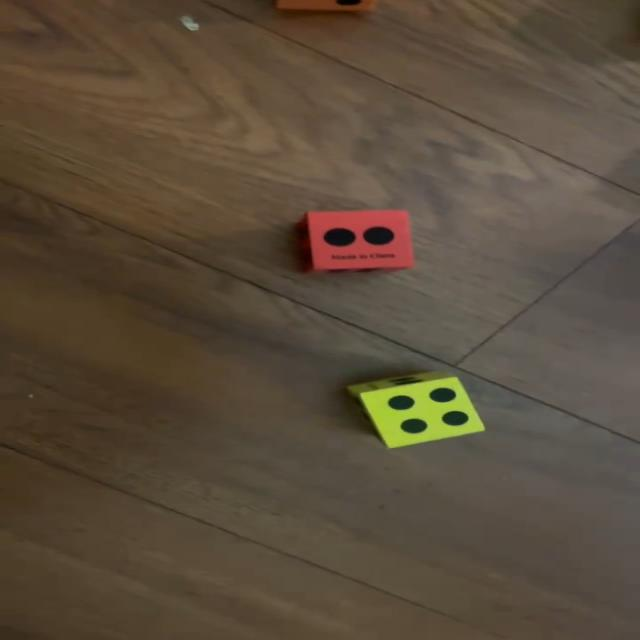red_block: (310, 209, 413, 274)
